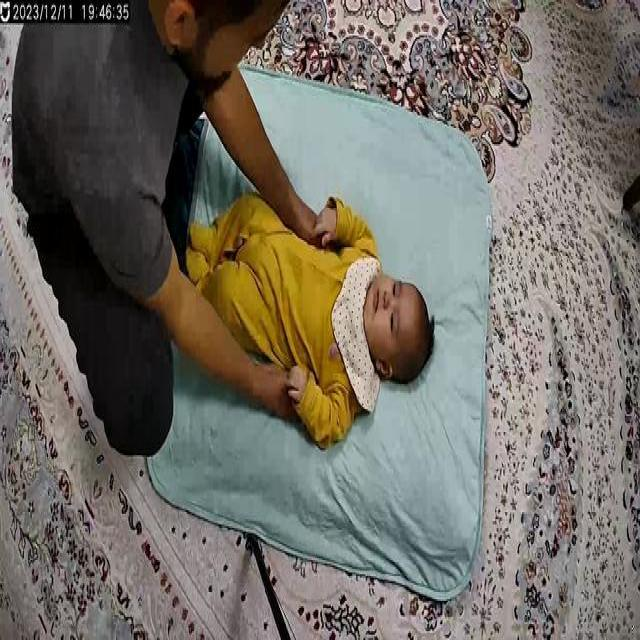baby: (184, 194, 436, 458)
